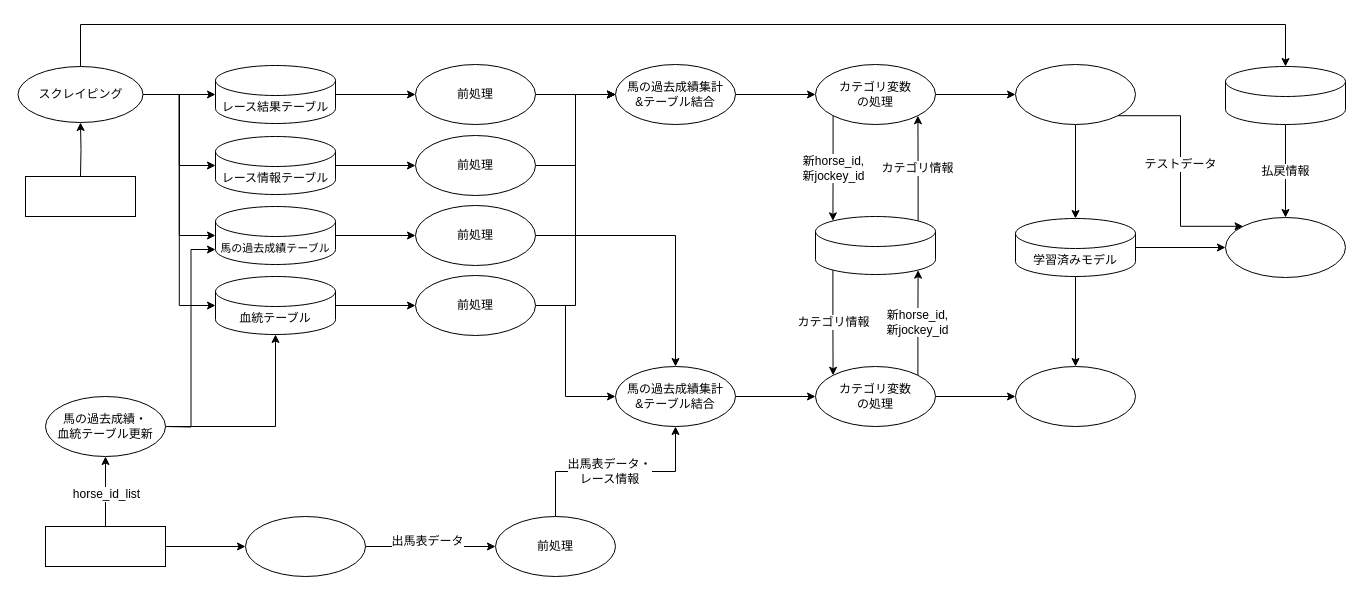
Image size: 1363x594. Some labels were removed from this diagram. Each missing label, with the centre of its shape:
"カテゴリマスタ" belongs at pixel 875 245.
"シミュレーション" belongs at pixel 1285 247.
"データベース db.netkeiba.com" belongs at pixel 80 196.
"データ分割 &学習" belongs at pixel 1075 94.
"レース直前にスクレイピング" belongs at pixel 305 546.
"予測" belongs at pixel 1075 396.
"当日の出馬表ページ race.netkeiba.com" belongs at pixel 105 546.
"払い戻しテーブル" belongs at pixel 1285 95.
